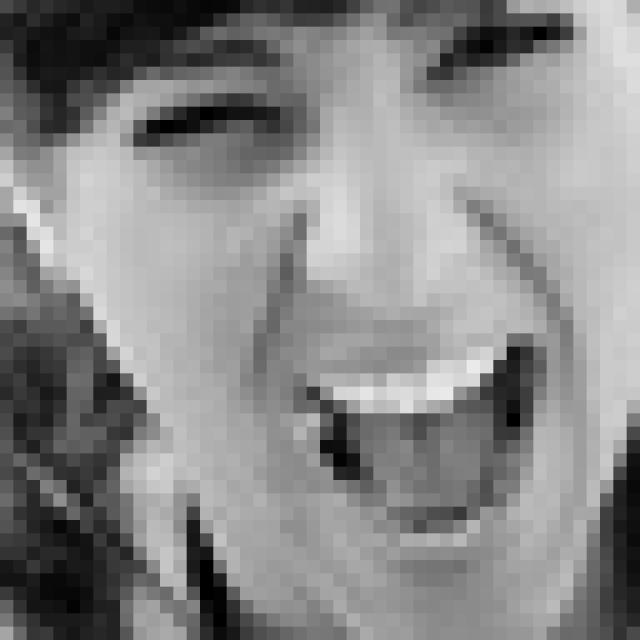angry: (124, 1, 592, 572)
